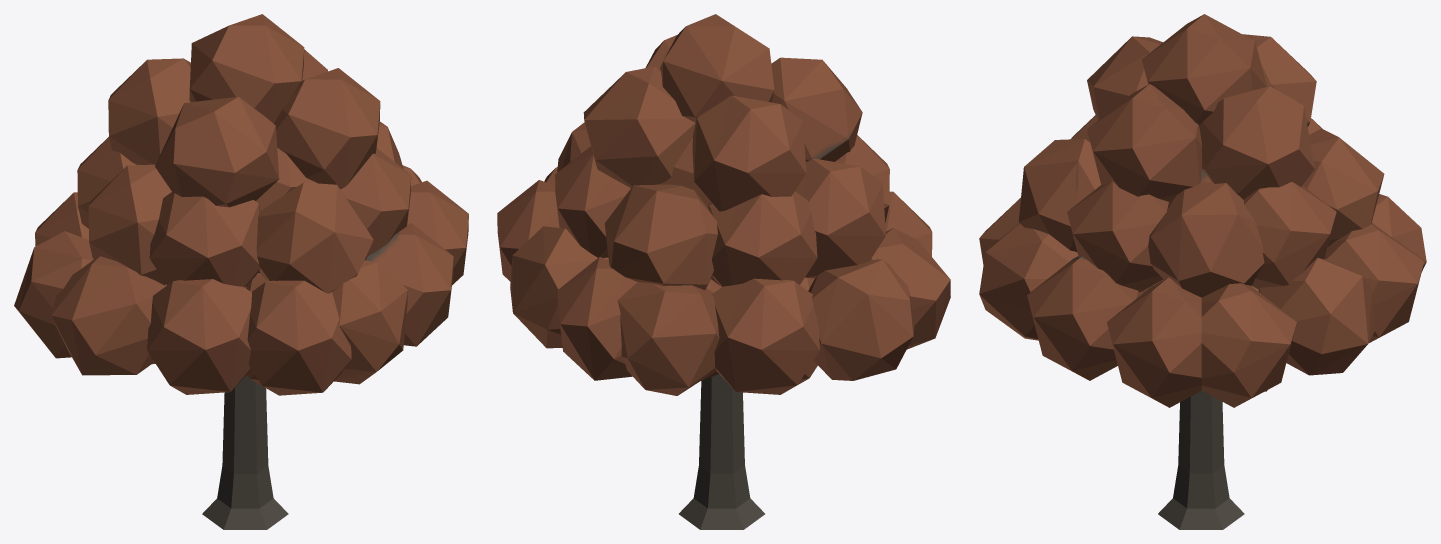
The model's file is Maple Tree.fbx.
3 views of the same model, side by side, from view 1: azimuth 30°, elevation 25°; view 2: azimuth 150°, elevation 25°; view 3: azimuth 270°, elevation 25° (orthographic).
Parts seen in each view (by area): view 1: Maple Tree; view 2: Maple Tree; view 3: Maple Tree.
Part boxes in pixels (x1,y1,x2,y2): Maple Tree: (14, 14, 468, 529); Maple Tree: (497, 14, 950, 529); Maple Tree: (979, 14, 1426, 529).
Size of the model in its own units: 281 by 341 by 302.
